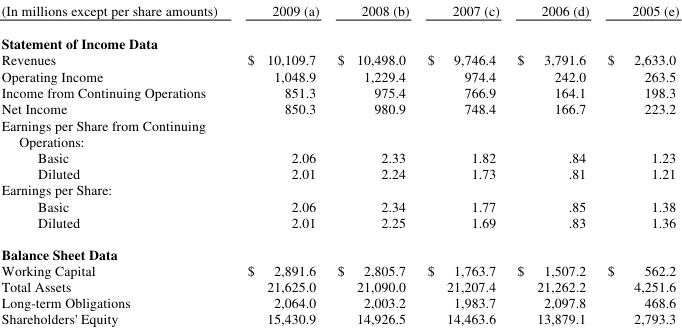table: (0, 0, 678, 327)
table column: (0, 0, 231, 327), (231, 0, 327, 327), (327, 0, 417, 327), (417, 0, 507, 327), (507, 0, 597, 327), (597, 0, 678, 327)
table column header: (0, 0, 678, 26)
table projected row header: (0, 115, 678, 148), (0, 26, 678, 51), (0, 237, 678, 261), (0, 180, 678, 197)
table row: (0, 115, 678, 148), (0, 0, 678, 26), (0, 26, 678, 51), (0, 213, 678, 237), (0, 237, 678, 261), (0, 66, 678, 83), (0, 180, 678, 197), (0, 293, 678, 310), (0, 310, 678, 327), (0, 83, 678, 99), (0, 99, 678, 115), (0, 148, 678, 164), (0, 164, 678, 180), (0, 197, 678, 213), (0, 261, 678, 277), (0, 277, 678, 293), (0, 51, 678, 66)
